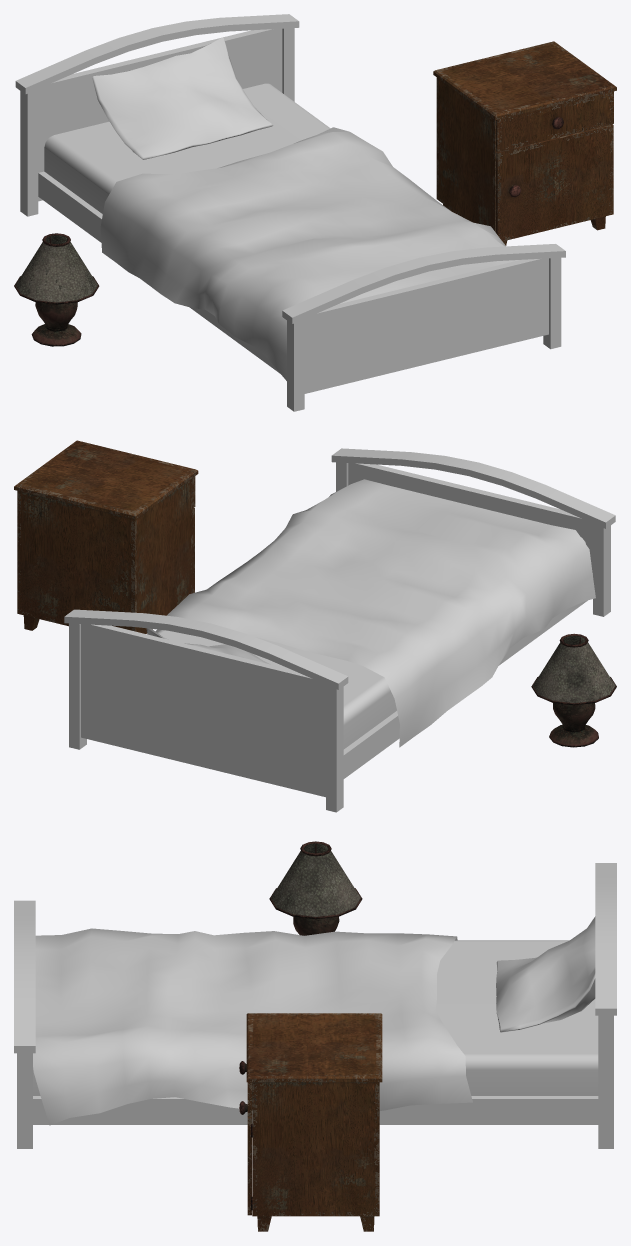
Rendered from OBSP.fbx.
3 views of the same model, one above another, from view 1: azimuth 30°, elevation 25°; view 2: azimuth 150°, elevation 25°; view 3: azimuth 270°, elevation 25° (orthographic). The views are drawn at different scales.
Parts seen in each view (by area): view 1: Bed, Blanket, BS_table, Pillow, Door, Lamp, Box; view 2: Blanket, Bed, BS_table, Lamp, Pillow; view 3: Blanket, Bed, BS_table, Pillow, Lamp, Door.
Boxes of the visible parts, left/top/right/bottom form: Bed: left=15, top=14, right=565, bottom=411; Blanket: left=100, top=127, right=518, bottom=380; BS_table: left=433, top=41, right=616, bottom=245; Pillow: left=92, top=37, right=273, bottom=159; Door: left=495, top=124, right=613, bottom=241; Lamp: left=14, top=233, right=99, bottom=346; Box: left=495, top=91, right=613, bottom=152; Blanket: left=155, top=479, right=595, bottom=747; Bed: left=64, top=448, right=615, bottom=812; BS_table: left=14, top=440, right=198, bottom=633; Lamp: left=531, top=633, right=616, bottom=747; Pillow: left=146, top=628, right=270, bottom=664; Blanket: left=33, top=928, right=472, bottom=1125; Bed: left=14, top=863, right=616, bottom=1148; BS_table: left=246, top=1013, right=382, bottom=1231; Pillow: left=496, top=916, right=595, bottom=1032; Lamp: left=269, top=841, right=362, bottom=935; Door: left=239, top=1101, right=251, bottom=1215.
Bounding box in the file's own units: 242 × 61.36 × 205.
